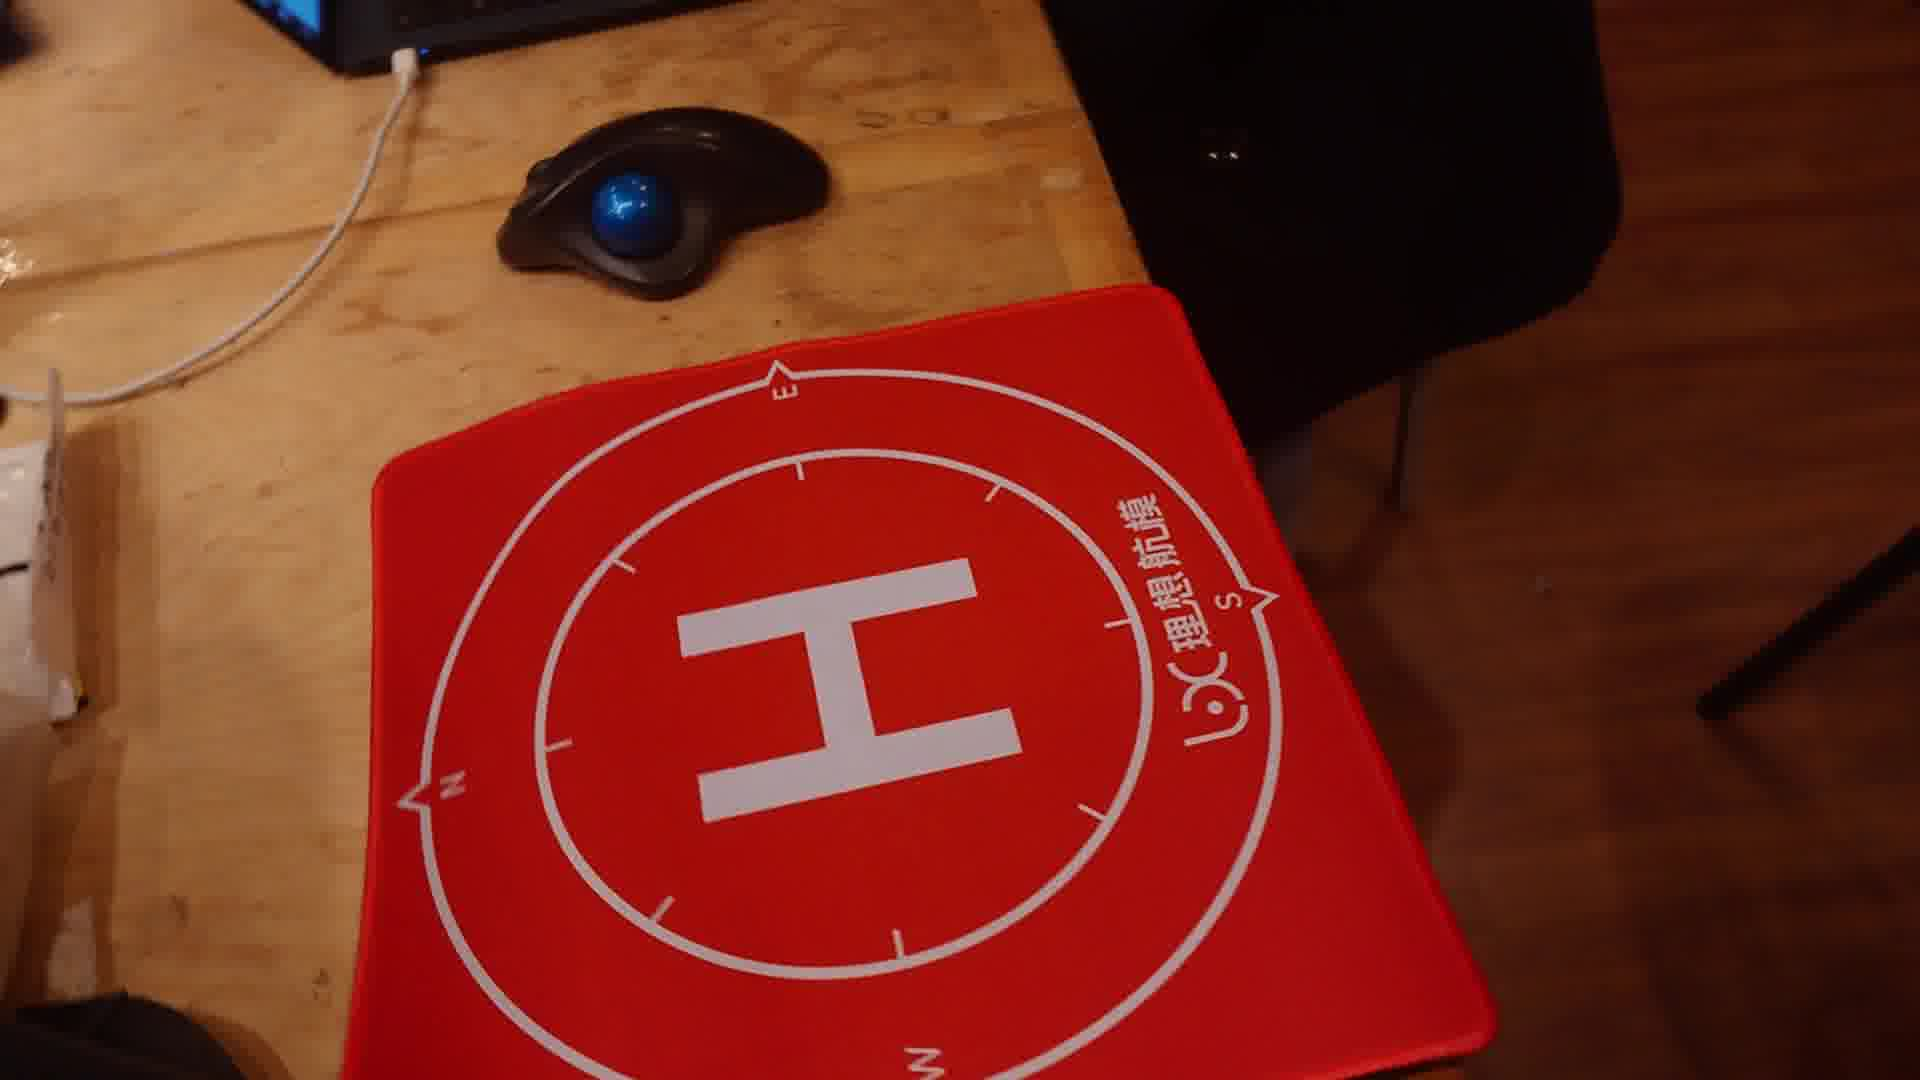H: (671, 556, 1031, 822)
